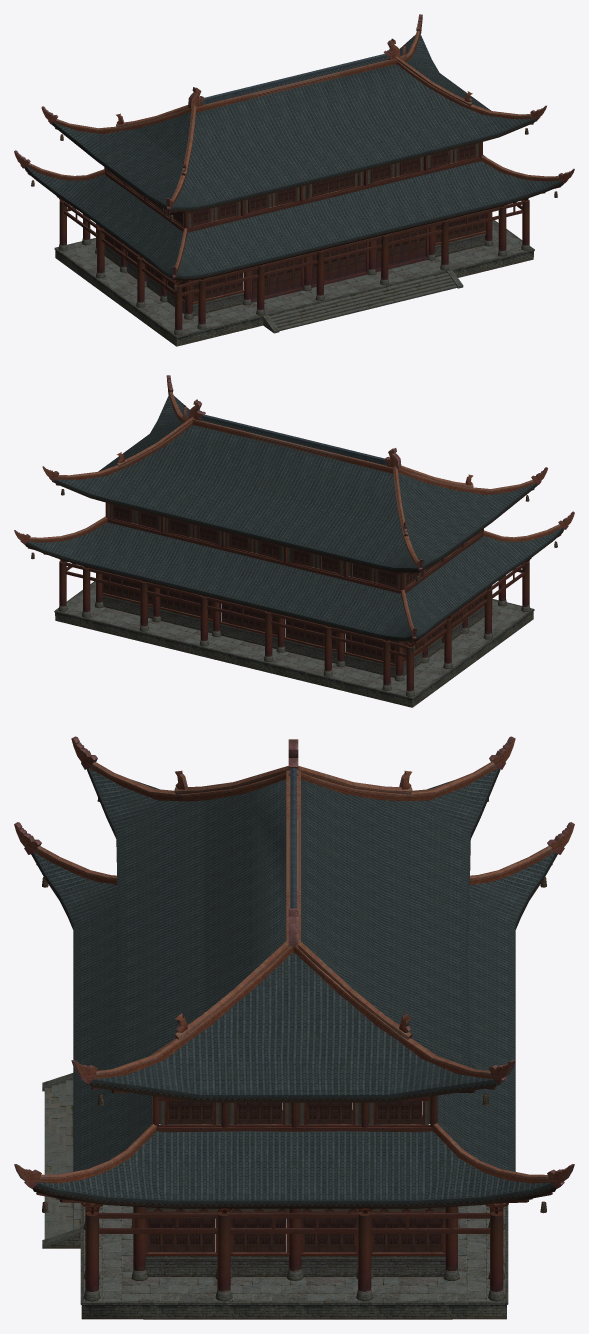
The model's file is chinese_hall.glb.
3 renders of one model, top to bottom at view 1: azimuth 30°, elevation 25°; view 2: azimuth 150°, elevation 25°; view 3: azimuth 270°, elevation 25°, orthographic. The views are drawn at different scales.
Visible parts, largest first — view 1: HZ_building_116_0_Material.010_0, HZ_building_116_1_Material.011_0, HZ_building_116_2_Material.012_0; view 2: HZ_building_116_0_Material.010_0, HZ_building_116_1_Material.011_0, HZ_building_116_2_Material.012_0; view 3: HZ_building_116_0_Material.010_0, HZ_building_116_1_Material.011_0, HZ_building_116_2_Material.012_0.
Boxes of the visible parts, x1,y1,x2,y2 form: HZ_building_116_0_Material.010_0: [24, 34, 563, 281]; HZ_building_116_1_Material.011_0: [27, 123, 561, 346]; HZ_building_116_2_Material.012_0: [14, 14, 574, 290]; HZ_building_116_0_Material.010_0: [25, 394, 564, 642]; HZ_building_116_1_Material.011_0: [27, 484, 561, 707]; HZ_building_116_2_Material.012_0: [14, 375, 574, 651]; HZ_building_116_0_Material.010_0: [31, 768, 557, 1208]; HZ_building_116_1_Material.011_0: [36, 864, 552, 1319]; HZ_building_116_2_Material.012_0: [14, 736, 574, 1213].
Size of the model in its own units: 5416 by 2508 by 3728.
3 materials, 3 textured.
